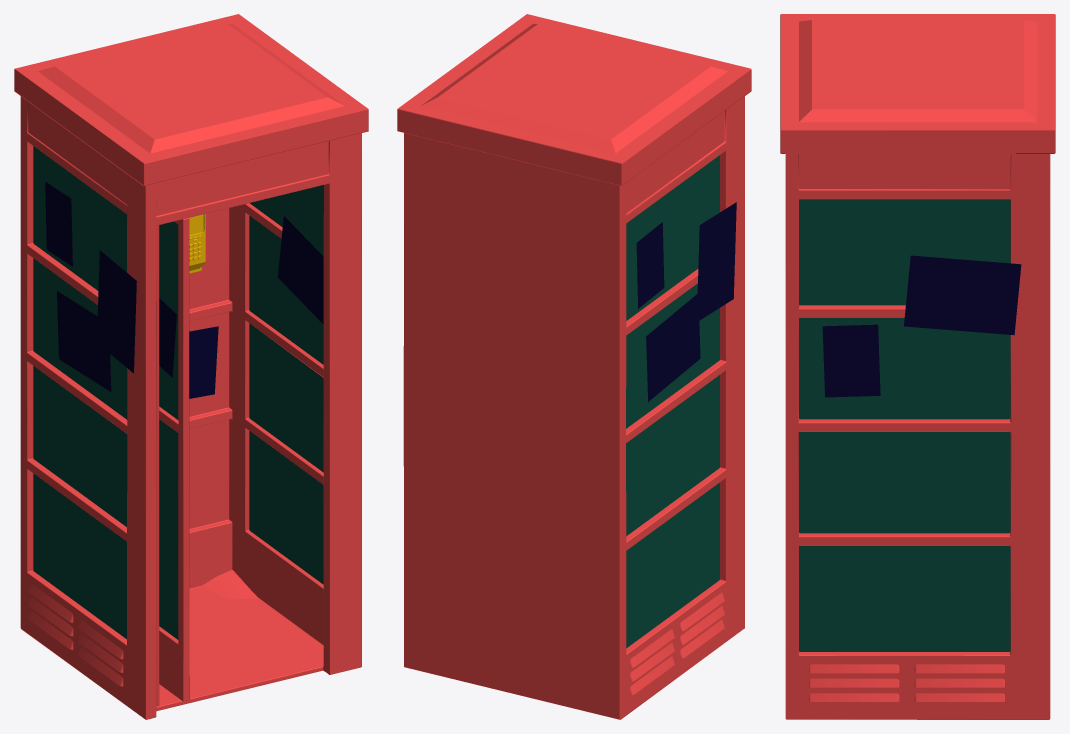
File: telephoneBooth.fbx
3 renders of one model, left to right at view 1: azimuth 30°, elevation 25°; view 2: azimuth 150°, elevation 25°; view 3: azimuth 270°, elevation 25°, orthographic. The views are drawn at different scales.
Parts seen in each view (by area): view 1: telephoneBooth; view 2: telephoneBooth; view 3: telephoneBooth.
Boxes of the visible parts, x1=… form: telephoneBooth: x1=14, y1=14, x2=368, y2=719; telephoneBooth: x1=397, y1=14, x2=751, y2=719; telephoneBooth: x1=780, y1=14, x2=1055, y2=719.
Size of the model in its own units: 104 by 250 by 104.
